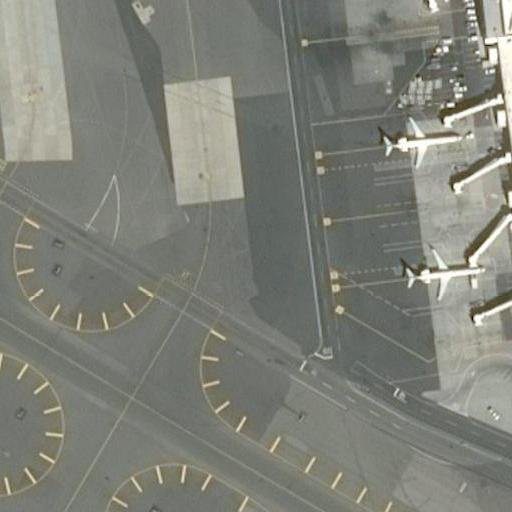Aircraft: (383, 113, 456, 173), (404, 246, 486, 297)
